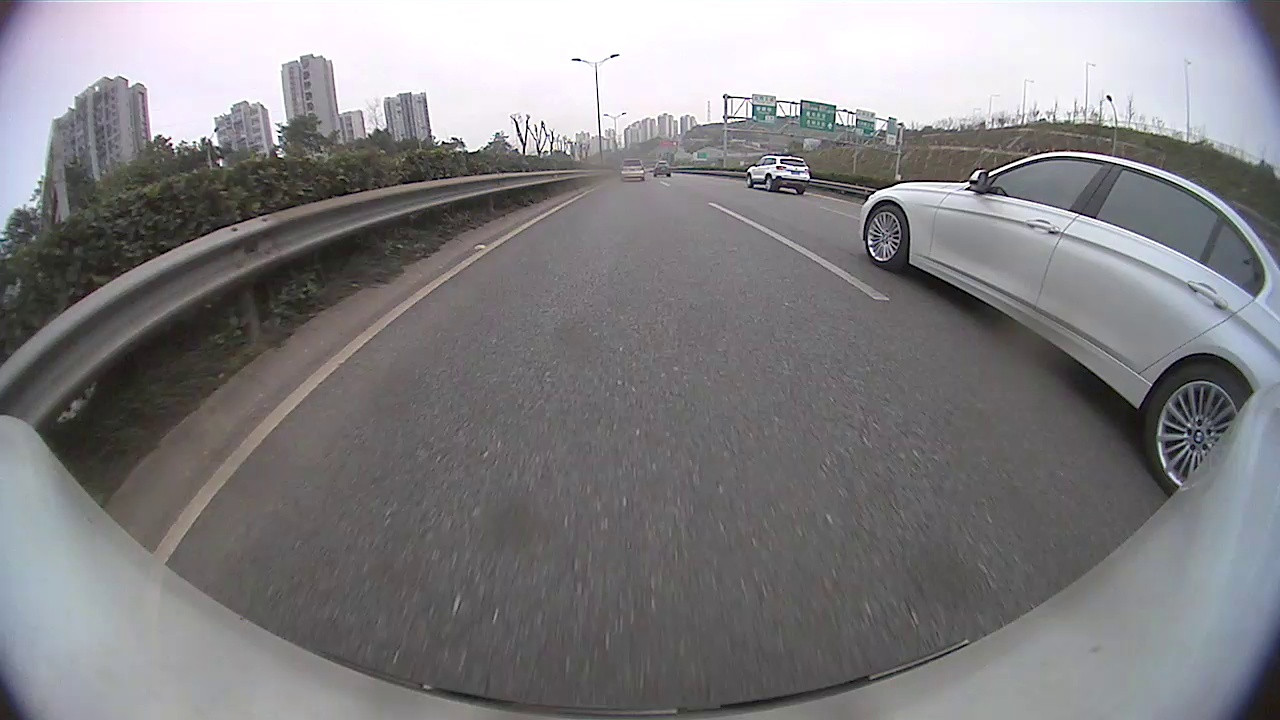car: (858, 147, 1279, 496), (745, 151, 812, 194), (620, 157, 646, 180)
front: (861, 205, 908, 273), (745, 175, 754, 187)
rear: (1137, 362, 1257, 495), (764, 177, 774, 192)
